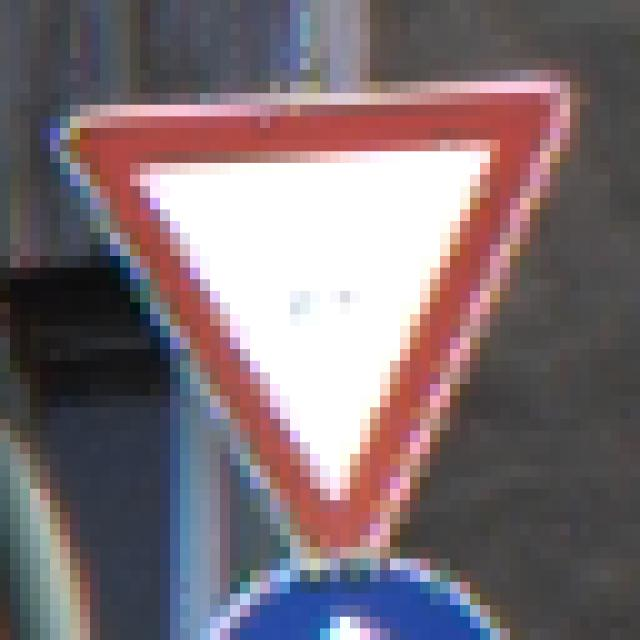Give Way: (51, 59, 591, 583)
